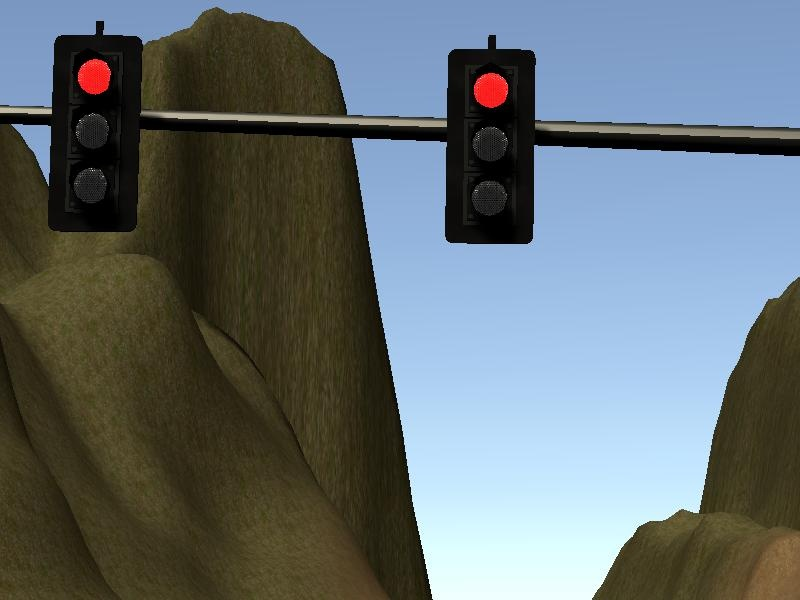red: (45, 33, 143, 233), (442, 47, 538, 245)
